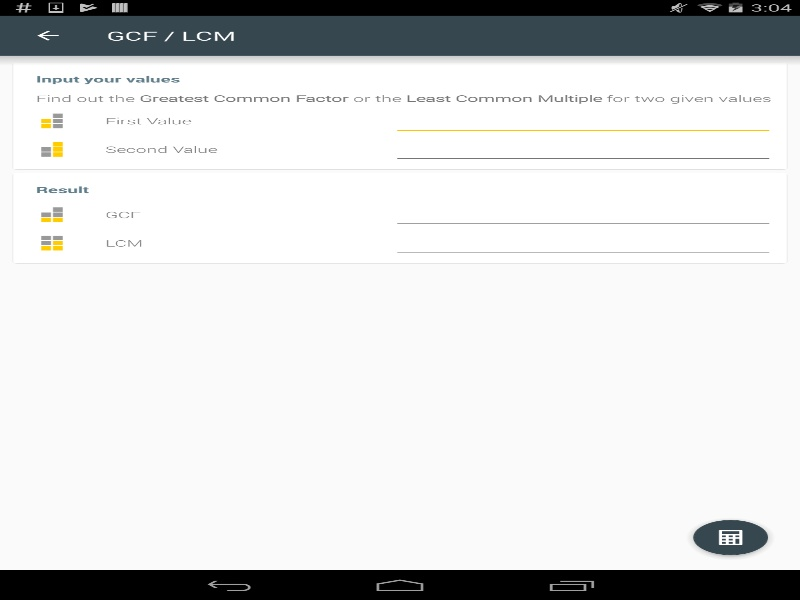Button: (669, 503, 792, 571), (10, 15, 85, 55)
Input: (392, 106, 774, 135), (392, 200, 774, 229), (392, 135, 774, 163), (392, 229, 774, 257)
